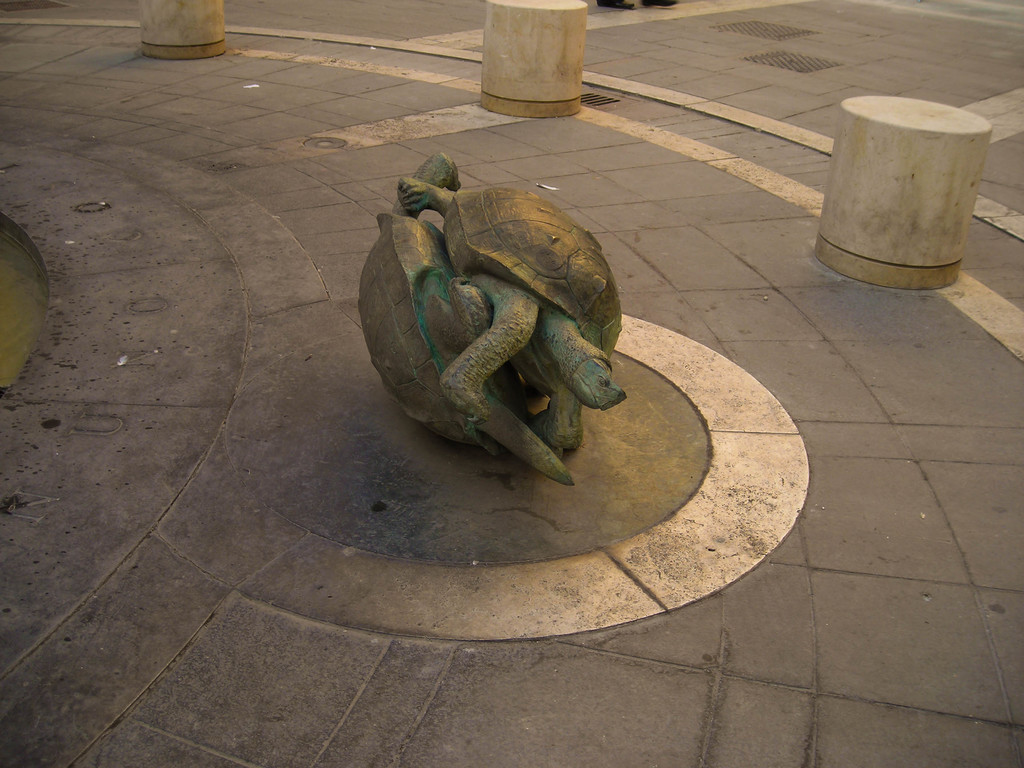Sea turtles: (355, 150, 585, 489), (396, 178, 629, 424)
